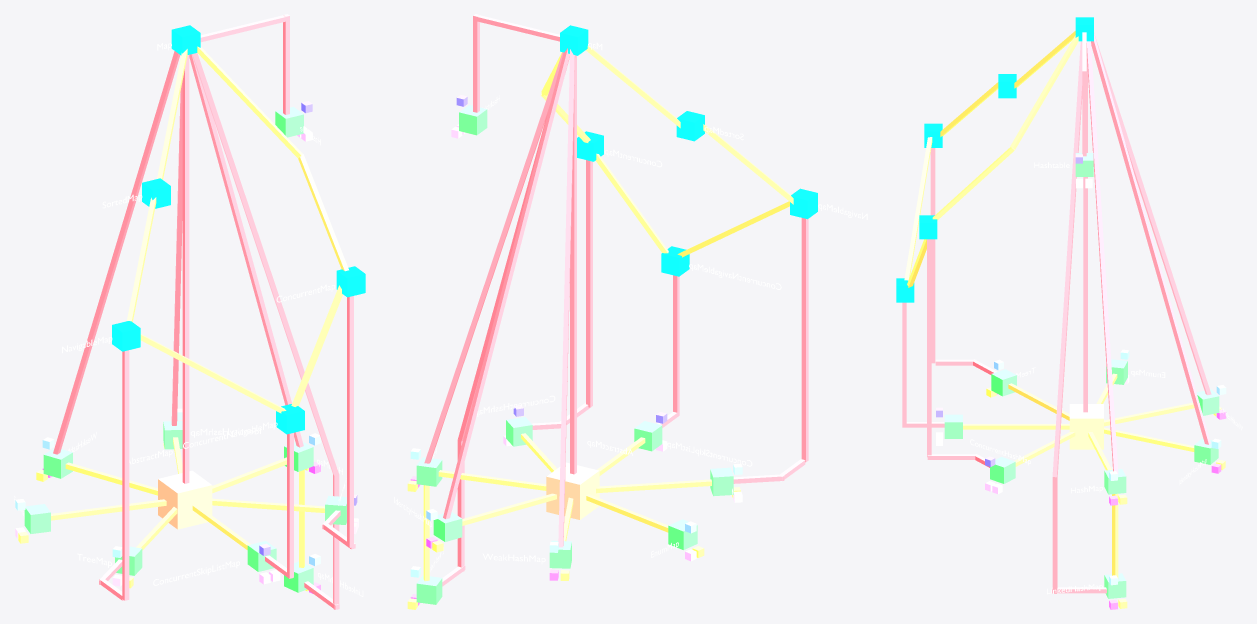
File: MapHierarchy.glb
3 views of the same model, side by side, from view 1: azimuth 30°, elevation 25°; view 2: azimuth 150°, elevation 25°; view 3: azimuth 270°, elevation 25° (orthographic). The views are drawn at different scales.
Visible parts, largest first — view 1: Cube.054, Cube.123, Cube.016, Cube.125, AbstractMap-Cube.002, Cube.121, Cube.124, Cube.055, Cube.117, Cube.119, Cube.126, Cube.120 (+25 smaller); view 2: Cube.124, Cube.123, Cube.125, Cube.054, AbstractMap-Cube.002, Cube.121, Cube.055, Cube.016, Cube.126, Cube.120, Cube.135, Cube.139 (+19 smaller); view 3: Cube.124, Cube.125, Cube.016, Cube.123, AbstractMap-Cube.002, Cube.054, Cube.055, Cube.121, Cube.117, Cube.119, Cube.017, Cube.118 (+9 smaller).
Part boxes in pixels (left/top/right/bottom): Cube.054: left=182, top=55, right=189, bottom=483; Cube.123: left=53, top=51, right=180, bottom=454; Cube.016: left=192, top=53, right=338, bottom=476; Cube.125: left=189, top=54, right=303, bottom=447; AbstractMap-Cube.002: left=158, top=470, right=212, bottom=529; Cube.121: left=122, top=350, right=129, bottom=600; Cube.124: left=171, top=81, right=182, bottom=425; Cube.055: left=347, top=296, right=353, bottom=547; Cube.117: left=197, top=46, right=302, bottom=158; Cube.119: left=140, top=334, right=286, bottom=413; Cube.126: left=287, top=433, right=293, bottom=578; Cube.120: left=291, top=285, right=342, bottom=406; Cube.124: left=443, top=48, right=569, bottom=519; Cube.123: left=558, top=49, right=575, bottom=547; Cube.125: left=424, top=52, right=563, bottom=463; Cube.054: left=570, top=55, right=576, bottom=474; AbstractMap-Cube.002: left=546, top=462, right=599, bottom=519; Cube.121: left=801, top=218, right=808, bottom=462; Cube.055: left=586, top=160, right=592, bottom=407; Cube.016: left=458, top=56, right=569, bottom=441; Cube.126: left=673, top=275, right=679, bottom=416; Cube.120: left=595, top=153, right=668, bottom=253; Cube.135: left=596, top=479, right=711, bottom=493; Cube.139: left=438, top=470, right=546, bottom=490; Cube.124: left=1091, top=33, right=1210, bottom=444; Cube.125: left=1086, top=41, right=1118, bottom=474; Cube.016: left=1052, top=41, right=1082, bottom=477; Cube.123: left=1094, top=33, right=1211, bottom=395; AbstractMap-Cube.002: left=1069, top=404, right=1103, bottom=449; Cube.054: left=1083, top=56, right=1087, bottom=412; Cube.055: left=927, top=239, right=931, bottom=457; Cube.121: left=930, top=148, right=935, bottom=363; Cube.117: left=1010, top=35, right=1078, bottom=149; Cube.119: left=904, top=137, right=932, bottom=280; Cube.017: left=1052, top=476, right=1057, bottom=593; Cube.118: left=932, top=147, right=1014, bottom=220.
Size of the model in its own units: 144 by 229 by 137.
